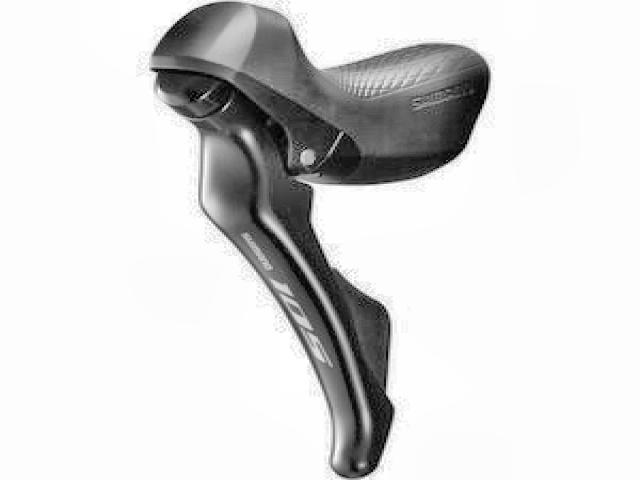sti_shifter: (143, 2, 486, 480)
